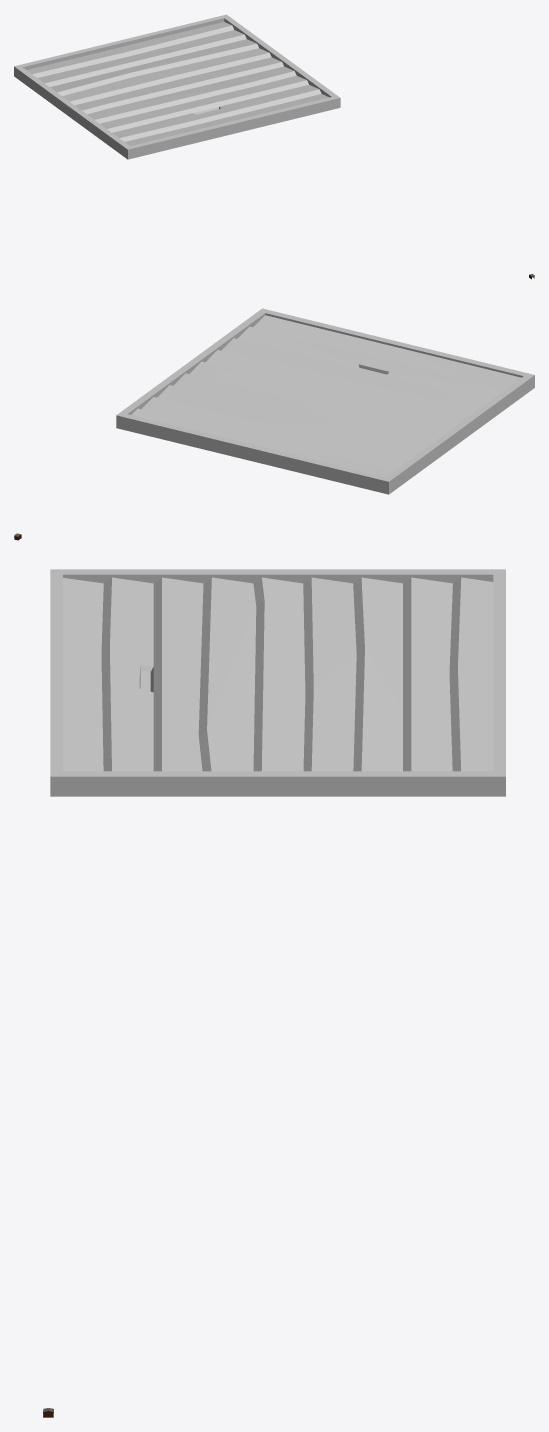
File: SM_Bld_Garage_01.fbx
3 views of the same model, one above another, from view 1: azimuth 30°, elevation 25°; view 2: azimuth 150°, elevation 25°; view 3: azimuth 270°, elevation 25° (orthographic). The views are drawn at different scales.
Visible parts, largest first — view 1: SM_Bld_Garage_01_Door; view 2: SM_Bld_Garage_01_Door; view 3: SM_Bld_Garage_01_Door.
Boxes of the visible parts, x1,y1,x2,y2 form: SM_Bld_Garage_01_Door: (14, 14, 340, 159); SM_Bld_Garage_01_Door: (116, 308, 534, 494); SM_Bld_Garage_01_Door: (50, 569, 505, 796).
Bounding box in the file's own units: 59621 × 31848 × 29488.
